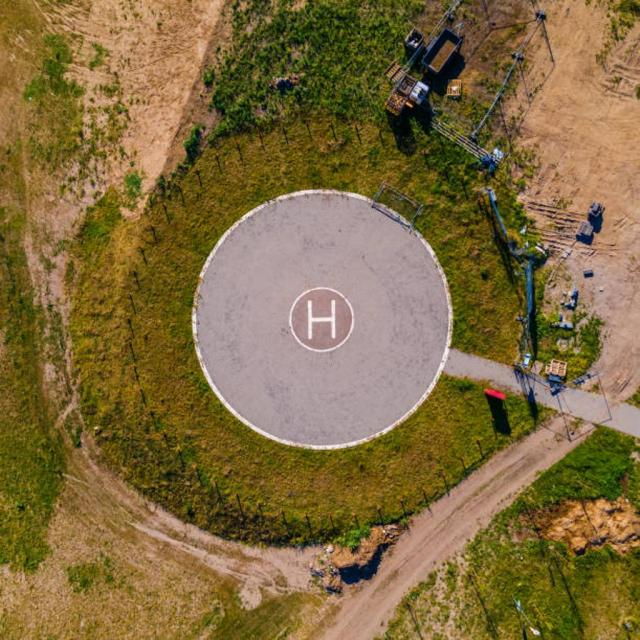helipad: (289, 286, 354, 352)
